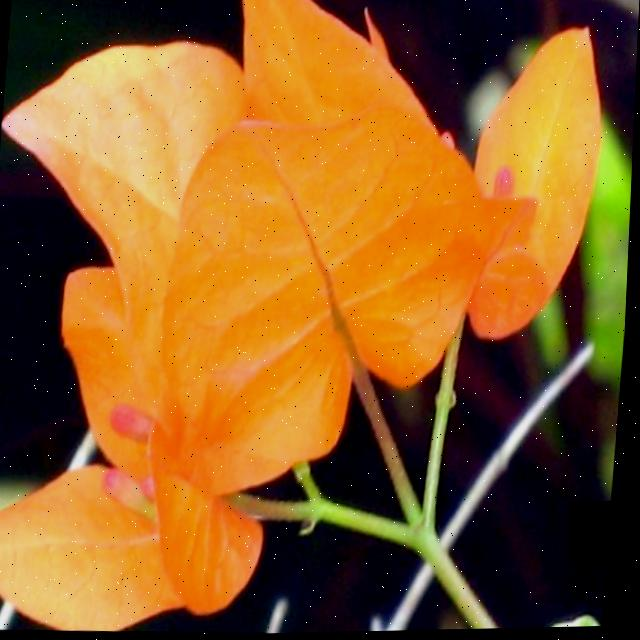bougainvillea: (0, 0, 640, 640)
